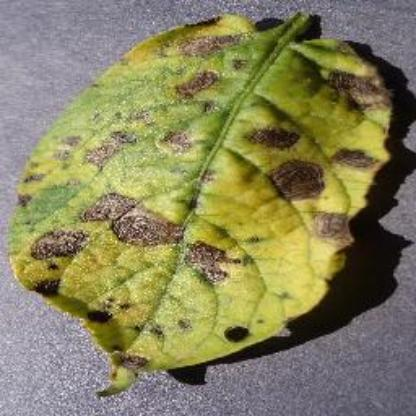Early-Blight: (7, 2, 415, 398)
